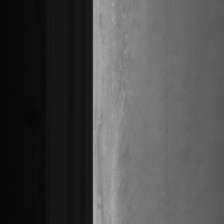silk_spot: (106, 23, 138, 115)
